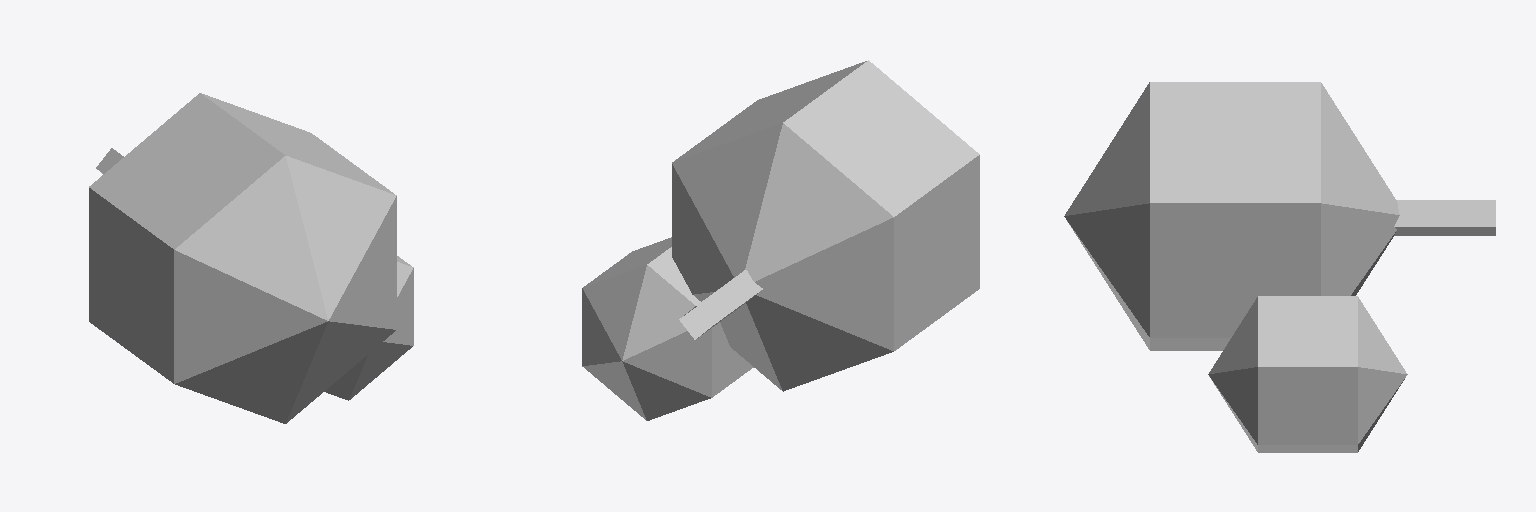
Rendered from tree2.obj.
The picture shows the model from 3 angles: view 1: azimuth 30°, elevation 25°; view 2: azimuth 150°, elevation 25°; view 3: azimuth 270°, elevation 25°; orthographic projection.
Visible parts, largest first — view 1: tree2; view 2: tree2; view 3: tree2.
Boxes of the visible parts, x1=… form: tree2: x1=89, y1=93, x2=413, y2=423; tree2: x1=582, y1=60, x2=979, y2=420; tree2: x1=1064, y1=82, x2=1495, y2=452.
Bounding box in the file's own units: 1.41 × 1.44 × 1.79.